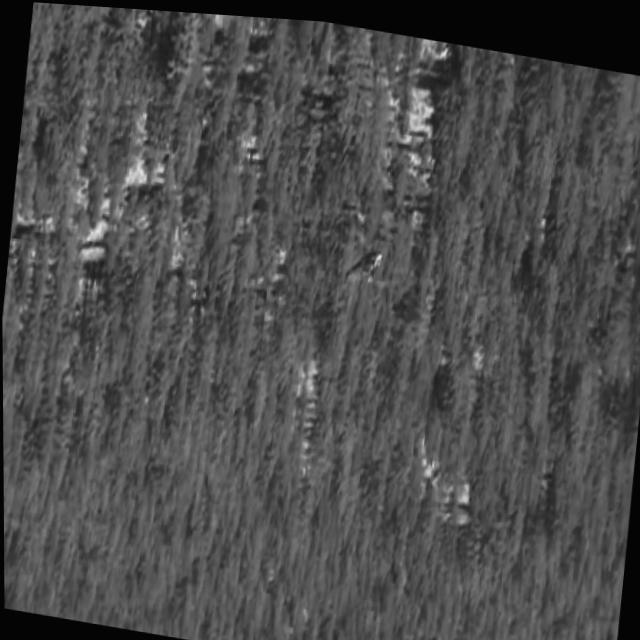helikopter: (324, 208, 413, 312)
